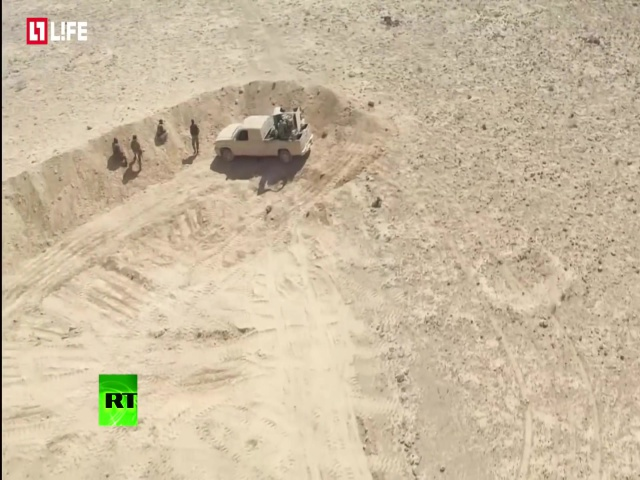person: (128, 132, 144, 175), (187, 115, 202, 158), (108, 135, 127, 167), (153, 118, 167, 146)
vehicle: (212, 107, 317, 164)
